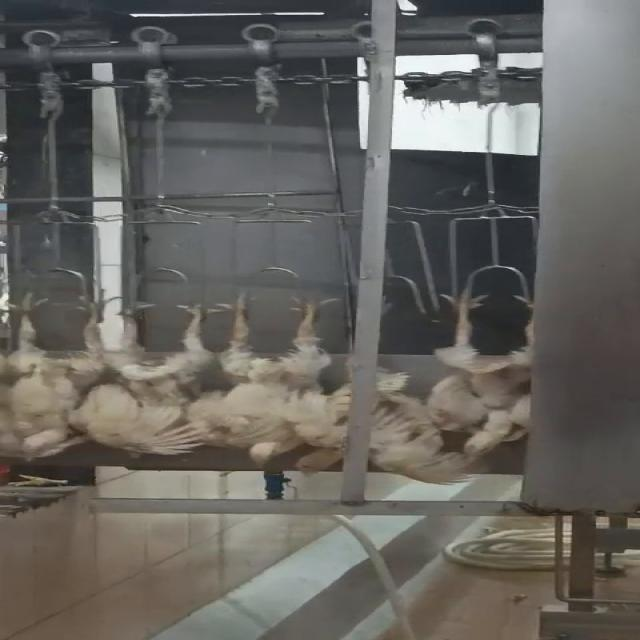chicken: (192, 292, 347, 470), (71, 291, 203, 469), (283, 358, 461, 482), (430, 286, 550, 464), (0, 285, 83, 465)
